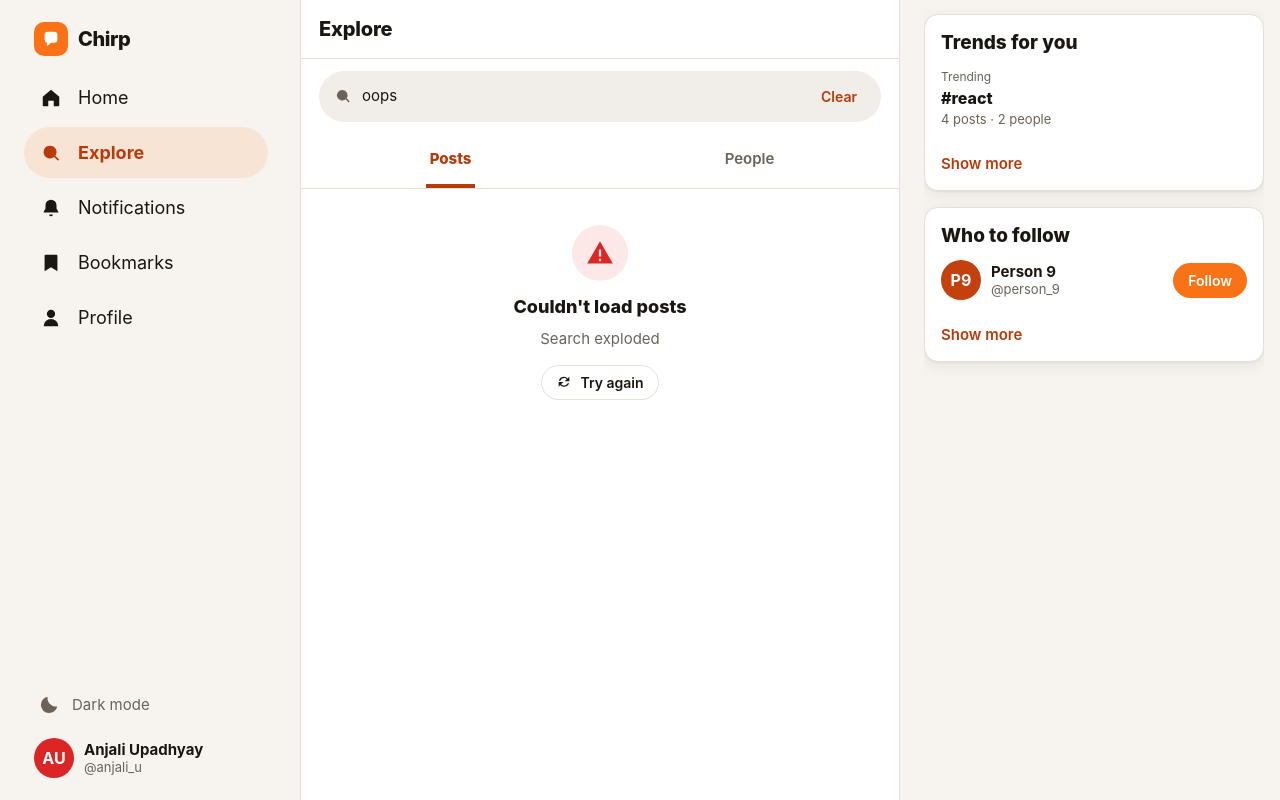
Explore › shows an error with "Try again" when search fails
Expected: the text "Search exploded" is shown, [540,328,660,350]
Click the button "Try again": (600, 382) [542,364,659,400]
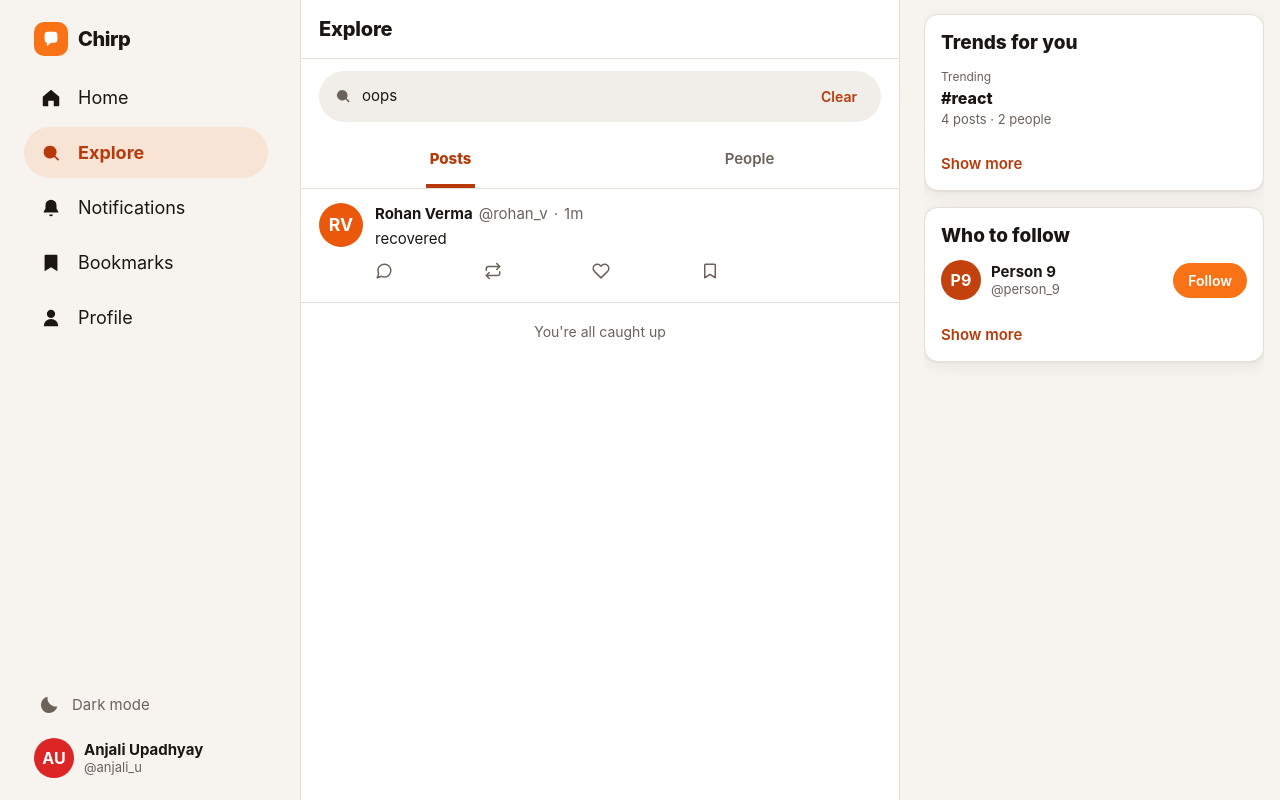
Now the text "recovered" is shown, box [375,228,447,248]
